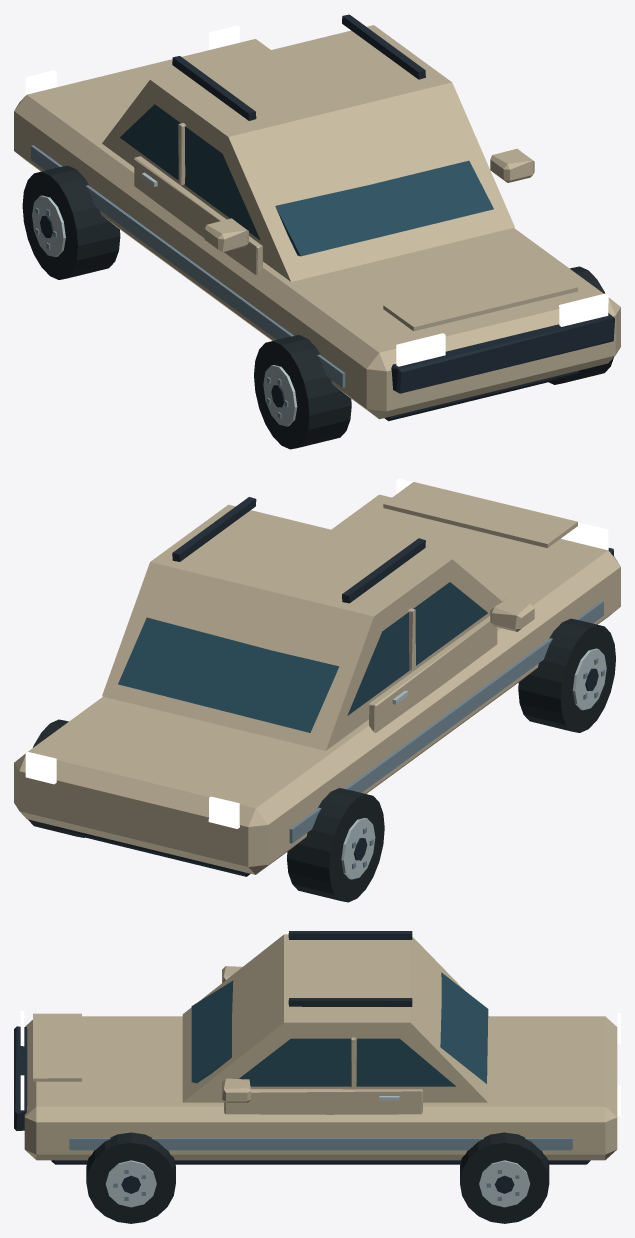
The model's file is road-suv.lod1.glb.
3 renders of one model, top to bottom at view 1: azimuth 30°, elevation 25°; view 2: azimuth 150°, elevation 25°; view 3: azimuth 270°, elevation 25°, orthographic. The views are drawn at different scales.
Parts seen in each view (by area): view 1: road-suv__body, road-suv__door_-1, road-suv__wheel_steer_0_l, road-suv__wheel_steer_1_l, road-suv__wheel_steer_0_r; view 2: road-suv__body, road-suv__door_-1, road-suv__wheel_steer_0_l, road-suv__wheel_steer_1_l; view 3: road-suv__body, road-suv__door_1, road-suv__wheel_steer_1_r, road-suv__wheel_steer_0_r.
Boxes of the visible parts, x1,y1,x2,y2 form: road-suv__body: (14,14,620,421); road-suv__door_-1: (120,104,262,274); road-suv__wheel_steer_0_l: (254,335,351,449); road-suv__wheel_steer_1_l: (22,165,120,279); road-suv__wheel_steer_0_r: (549,266,613,384); road-suv__body: (14,478,620,876); road-suv__door_-1: (347,582,497,732); road-suv__wheel_steer_0_l: (518,618,615,732); road-suv__wheel_steer_1_l: (287,788,384,902); road-suv__body: (14,931,620,1164); road-suv__door_1: (224,1037,455,1114); road-suv__wheel_steer_1_r: (460,1132,549,1223); road-suv__wheel_steer_0_r: (86,1132,175,1223).
Bounding box in the file's own units: 2.25 × 1.66 × 4.61.
